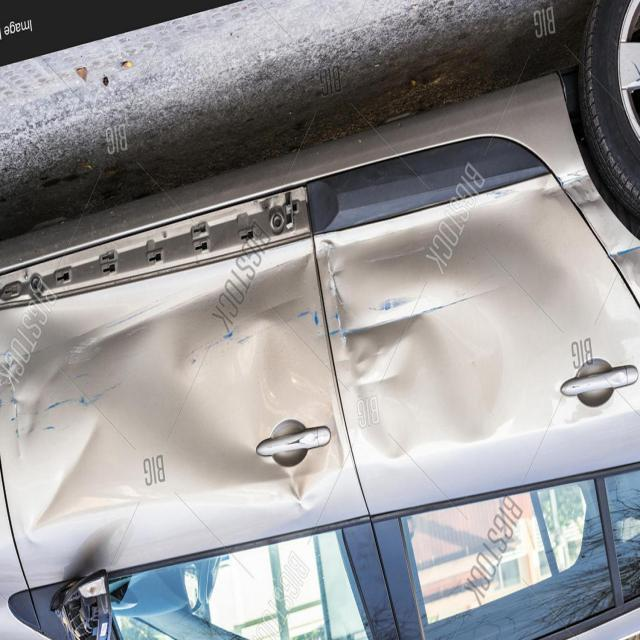dent: (0, 222, 306, 582), (332, 222, 628, 480)
